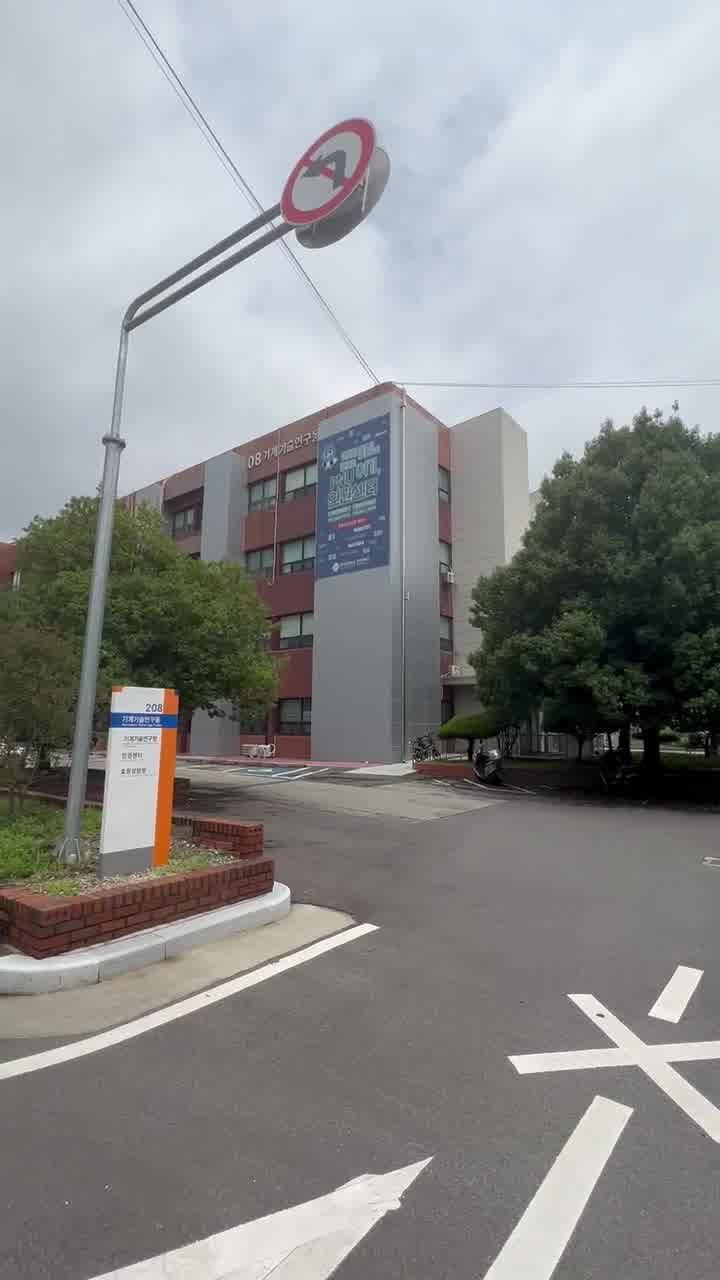building: (220, 396, 442, 742)
